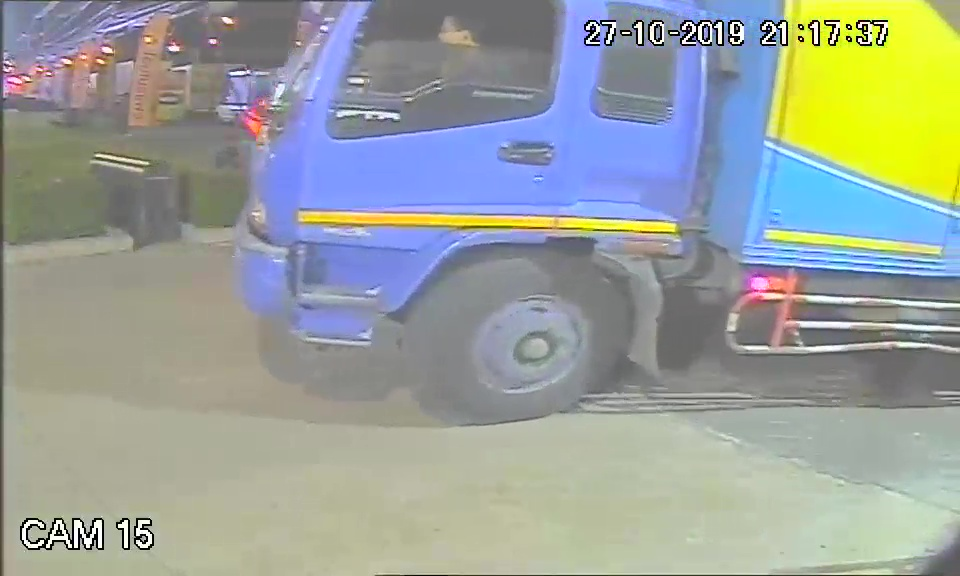truck: (235, 6, 714, 418)
